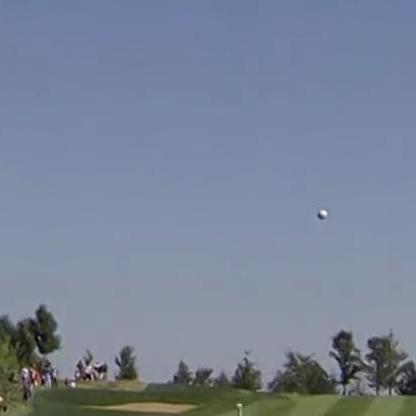golfball: (315, 208, 326, 219)
